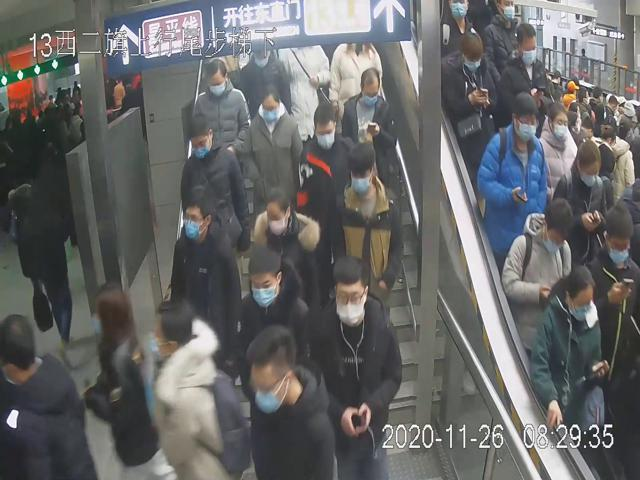person: (312, 256, 406, 479), (166, 182, 244, 362), (473, 87, 548, 258), (329, 136, 402, 299), (177, 109, 251, 265), (236, 242, 310, 397), (232, 83, 305, 225), (297, 99, 358, 261), (250, 182, 322, 303), (187, 59, 251, 178), (343, 67, 395, 186)
